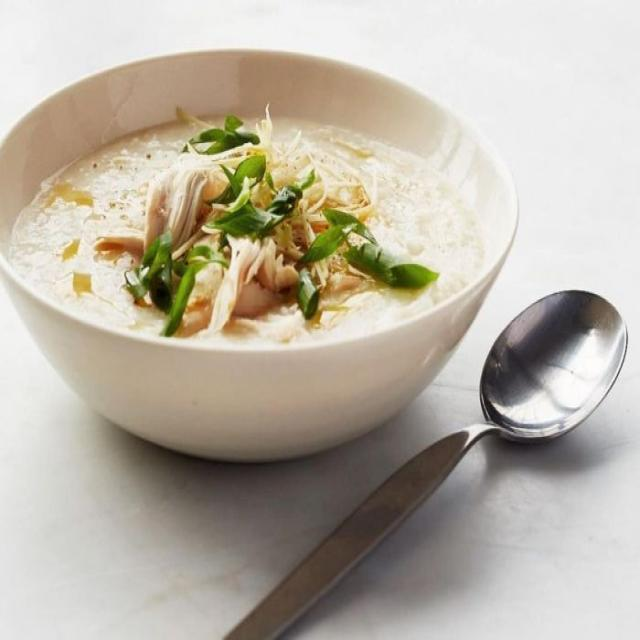bubur ayam: (5, 116, 481, 337)
mangkuk: (2, 48, 520, 466)
